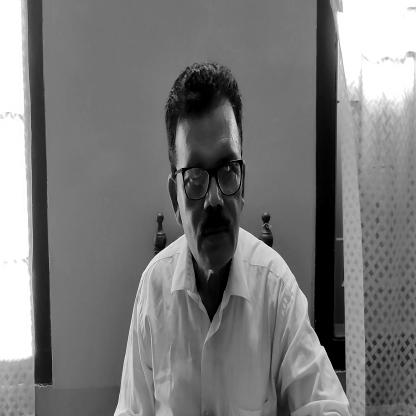Normal: (170, 66, 250, 278)
